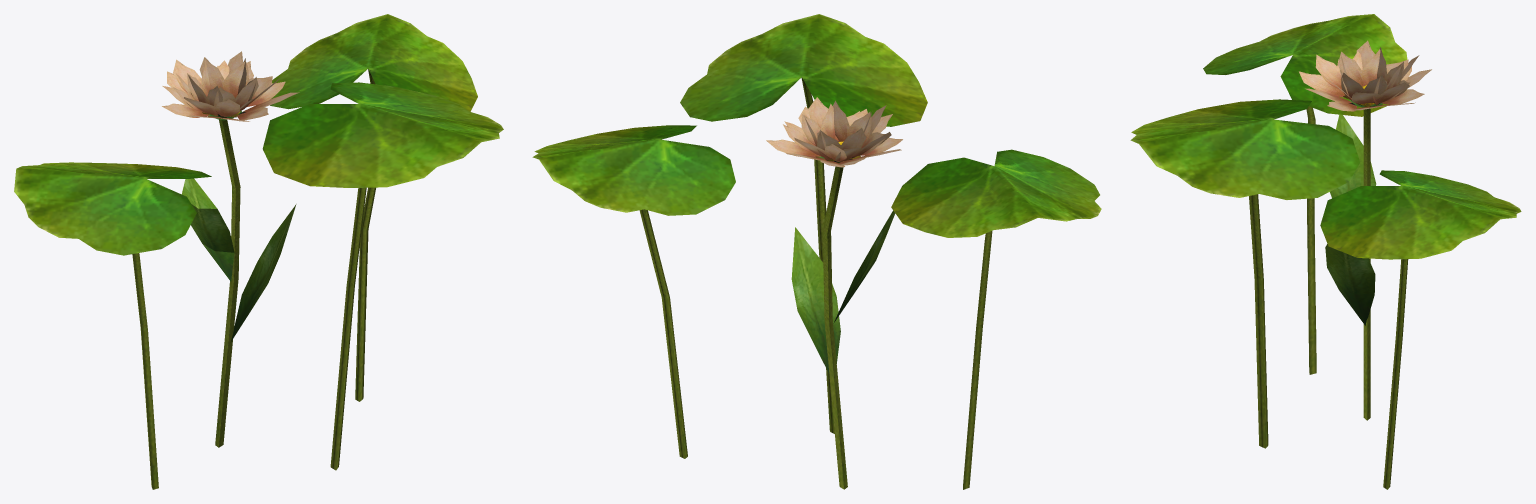
The model's file is lotusflower_09.fbx.
The picture shows the model from 3 angles, left to right: view 1: azimuth 30°, elevation 25°; view 2: azimuth 150°, elevation 25°; view 3: azimuth 270°, elevation 25°; orthographic projection. The views are drawn at different scales.
Visible parts, largest first — view 1: lotusflower_09; view 2: lotusflower_09; view 3: lotusflower_09.
Part boxes in pixels (bbox=[...]): lotusflower_09: bbox=[14, 14, 503, 489]; lotusflower_09: bbox=[532, 14, 1101, 489]; lotusflower_09: bbox=[1130, 14, 1521, 489].
Bounding box in the file's own units: 1.84 × 1.34 × 1.32.
